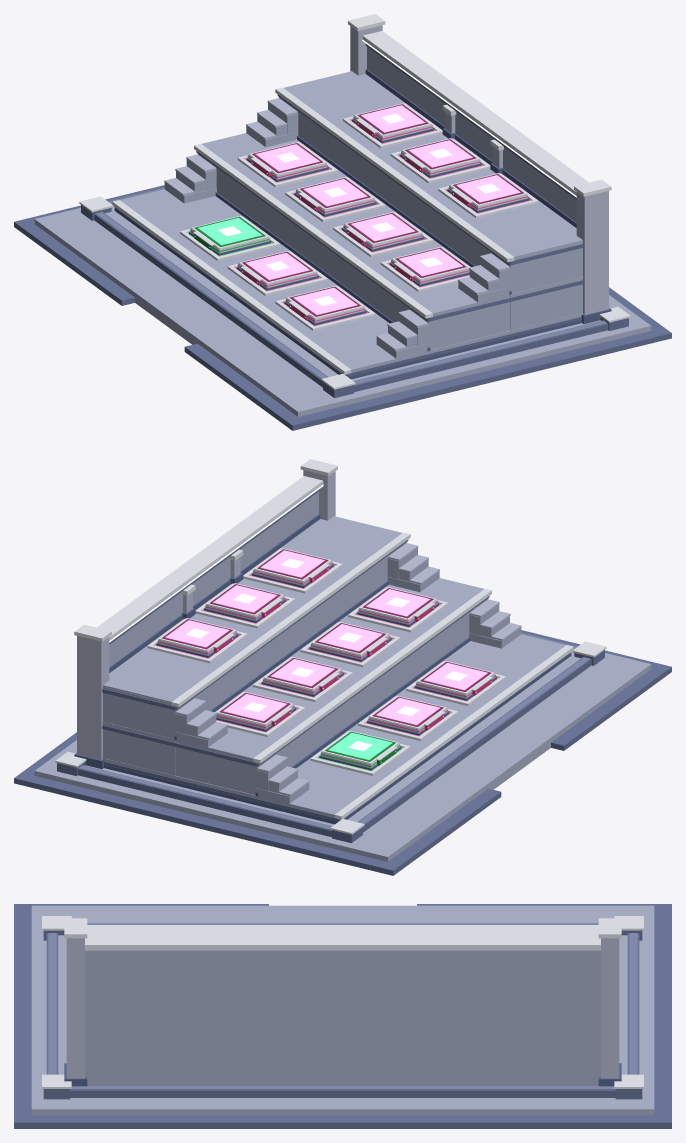
Rendered from GunStand.glb.
3 views of the same model, one above another, from view 1: azimuth 30°, elevation 25°; view 2: azimuth 150°, elevation 25°; view 3: azimuth 270°, elevation 25° (orthographic). The views are drawn at different scales.
Parts seen in each view (by area): view 1: PlazaDeck_05, ArmoryTierTop_212, ArmoryTier_213, ArmoryTierTop_228, ArmoryTier_220, ArmoryTierTop_219, BackCoping_179, PlazaKerb_03, ArmoryBack_182, CornerPost_172, ArmoryApron_246, TierCoping_209 (+26 smaller); view 2: PlazaDeck_05, ArmoryTierTop_212, ArmoryTier_213, ArmoryTierTop_228, ArmoryTier_220, ArmoryTierTop_219, BackCoping_179, PlazaKerb_04, ArmoryBack_182, CornerPost_169, ArmoryApron_246, TierCoping_209 (+26 smaller); view 3: ArmoryBack_182, PlazaDeck_05, BackCoping_179, PlazaKerb_02, ApronKerb_243, PlazaKerb_03, PlazaKerb_04, CornerPost_169, CornerPost_172, ArmoryApron_246, ApronKerbTop_242, TierCoping_216 (+16 smaller).
Boxes of the visible parts, box(x1,y1,x2,y2) form: PlazaDeck_05: box(34, 208, 651, 416); ArmoryTierTop_212: box(284, 71, 582, 257); ArmoryTier_213: box(279, 97, 582, 330); ArmoryTierTop_228: box(120, 189, 583, 370); ArmoryTier_220: box(197, 153, 509, 349); ArmoryTierTop_219: box(202, 133, 583, 314); BackCoping_179: box(362, 31, 588, 195); PlazaKerb_03: box(298, 327, 671, 427); ArmoryBack_182: box(367, 47, 576, 222); CornerPost_172: box(576, 191, 608, 315); ArmoryApron_246: box(105, 206, 600, 381); TierCoping_209: box(275, 87, 514, 262); PlazaDeck_05: box(34, 653, 651, 861); ArmoryTierTop_212: box(103, 516, 401, 703); ArmoryTier_213: box(103, 542, 406, 775); ArmoryTierTop_228: box(102, 634, 565, 815); ArmoryTier_220: box(176, 598, 488, 794); ArmoryTierTop_219: box(102, 578, 483, 759); BackCoping_179: box(97, 476, 323, 640); PlazaKerb_04: box(14, 772, 387, 872); ArmoryBack_182: box(109, 492, 318, 667); CornerPost_169: box(77, 636, 109, 760); ArmoryApron_246: box(85, 651, 580, 826); TierCoping_209: box(171, 532, 410, 707); ArmoryBack_182: box(85, 950, 600, 1085); PlazaDeck_05: box(31, 905, 654, 1115); BackCoping_179: box(85, 933, 600, 950); PlazaKerb_02: box(31, 1115, 654, 1128); ApronKerb_243: box(70, 1085, 615, 1097); PlazaKerb_03: box(14, 911, 31, 1128); PlazaKerb_04: box(654, 911, 671, 1128); CornerPost_169: box(601, 938, 619, 1078); CornerPost_172: box(66, 938, 84, 1078); ArmoryApron_246: box(58, 935, 627, 1074); ApronKerbTop_242: box(70, 1086, 615, 1089); TierCoping_216: box(87, 929, 598, 932).
Size of the model in its own units: 34.9 by 12.8 by 44.4.
